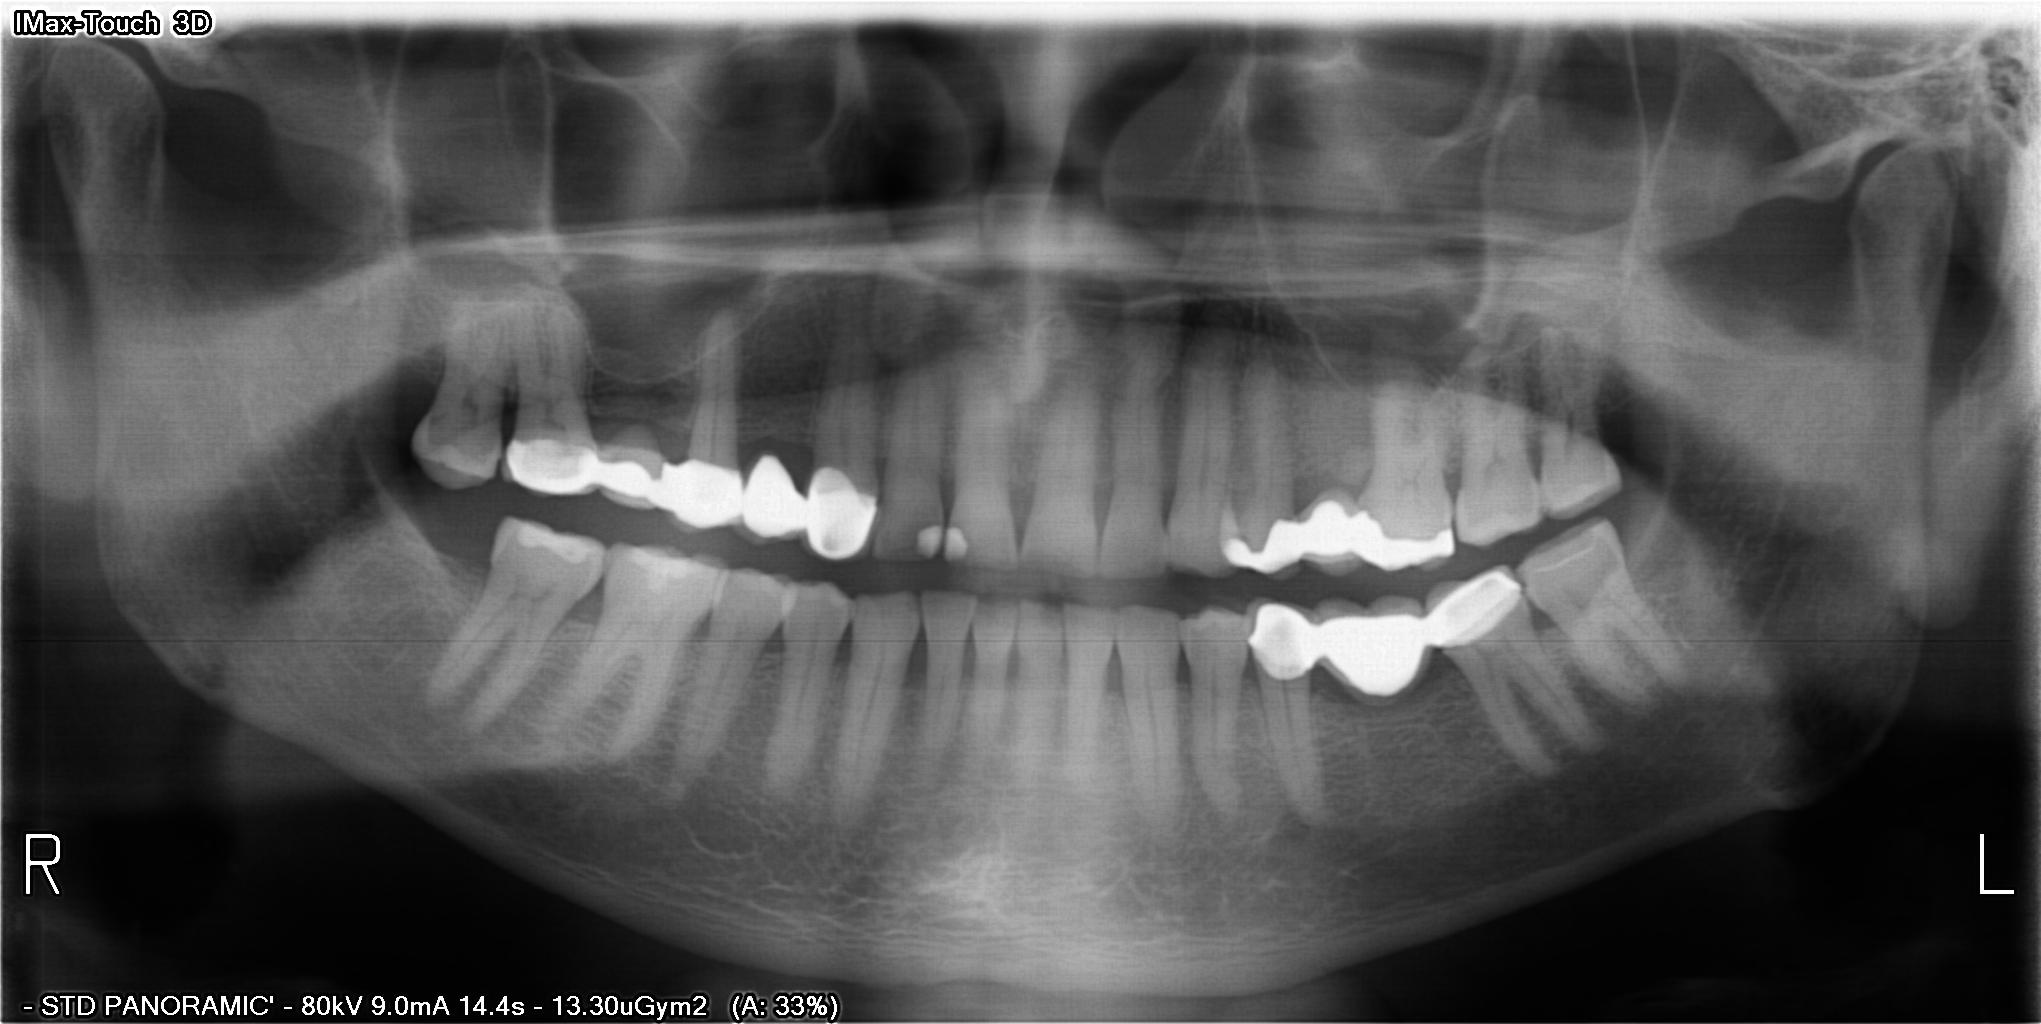Çürük: (1423, 569, 1528, 649), (807, 462, 880, 562), (1359, 505, 1457, 575), (1243, 600, 1321, 686), (663, 453, 746, 532), (507, 435, 603, 502), (1224, 515, 1305, 577), (521, 513, 590, 566), (624, 545, 696, 583), (941, 521, 972, 563), (921, 519, 941, 562)
